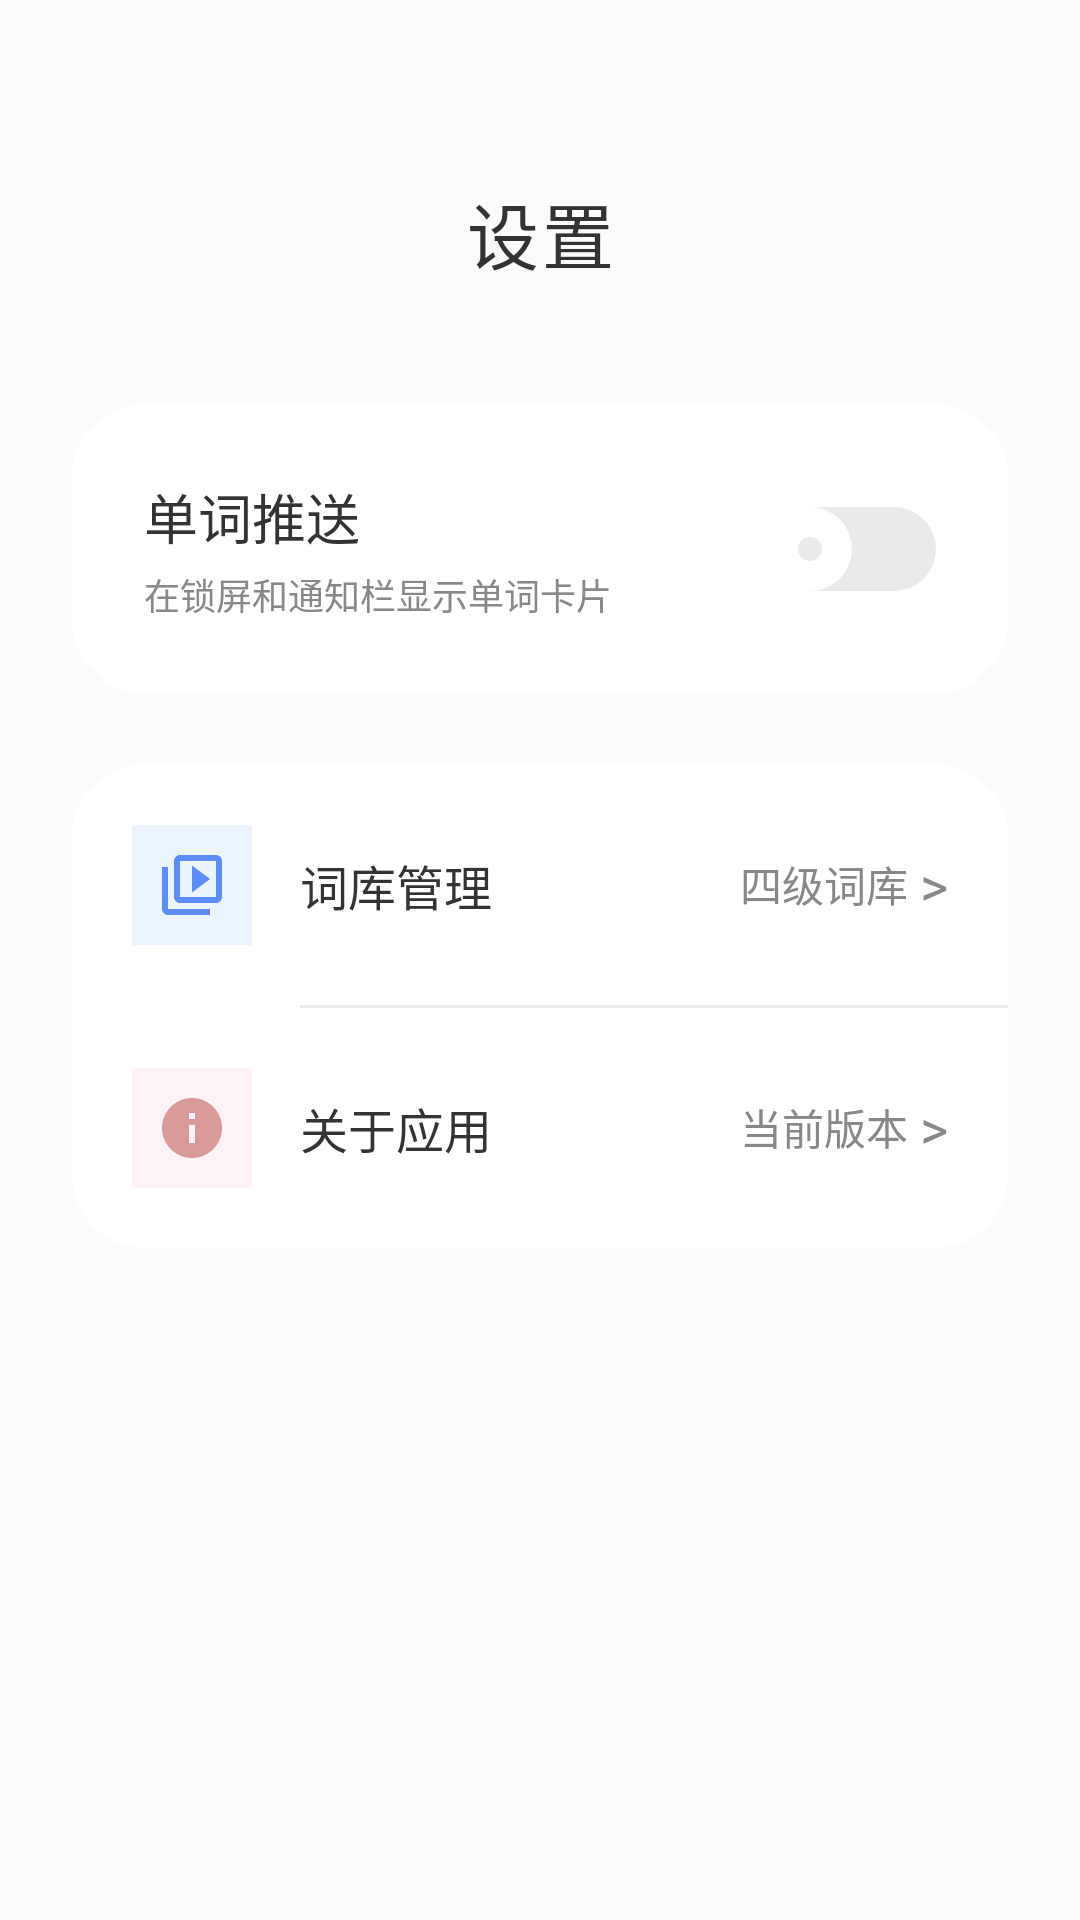

Icon click points for this 1080w x 1920h phone screenshot, format (x,y):
info: (192,1128)
